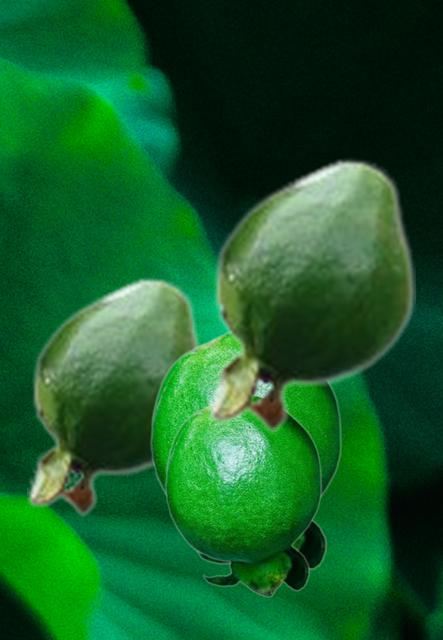guava: (208, 157, 414, 434), (149, 331, 341, 572), (27, 276, 205, 517), (164, 399, 321, 596)
